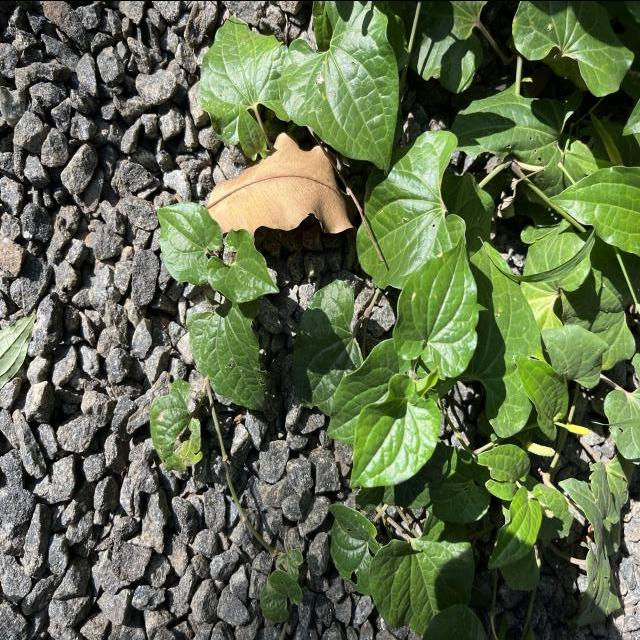Piper longum: (276, 0, 401, 179), (156, 200, 224, 286), (510, 351, 570, 441)
